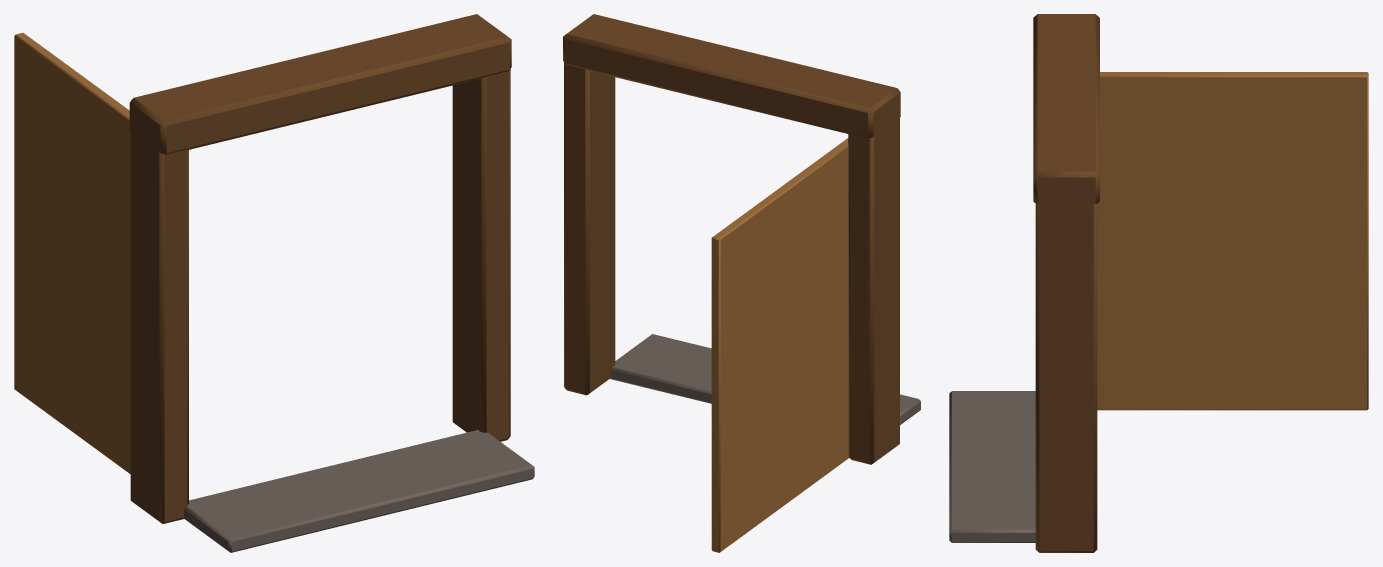
File: door_frame.glb
The picture shows the model from 3 angles, left to right: view 1: azimuth 30°, elevation 25°; view 2: azimuth 150°, elevation 25°; view 3: azimuth 270°, elevation 25°; orthographic projection. The views are drawn at different scales.
Parts seen in each view (by area): view 1: door_frame; view 2: door_frame; view 3: door_frame.
Part boxes in pixels (bbox=[...]): door_frame: bbox=[14, 14, 534, 552]; door_frame: bbox=[563, 14, 920, 552]; door_frame: bbox=[949, 14, 1368, 552].
Size of the model in its own units: 3.1 by 3.41 by 3.4.
